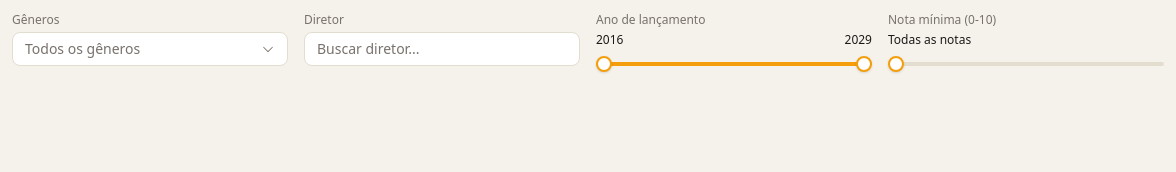
Test: FilterBar › genre combobox › opens the listbox with translated genre names on click
This screenshot has width=1176, height=172.
Click the button "Todos os gêneros": click(83, 48) [12,32,288,66]
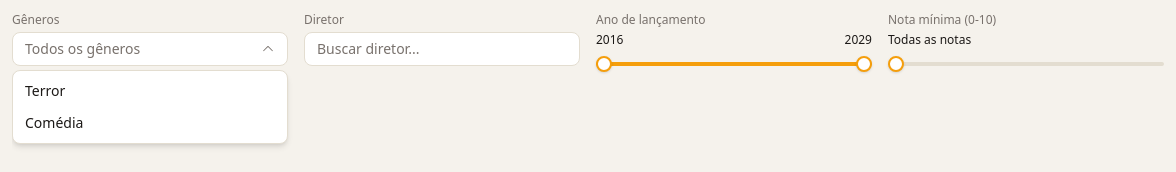
Expected: the list is shown, [12,70,288,144]
Expected: the option "Terror" is shown, [13,75,287,107]
